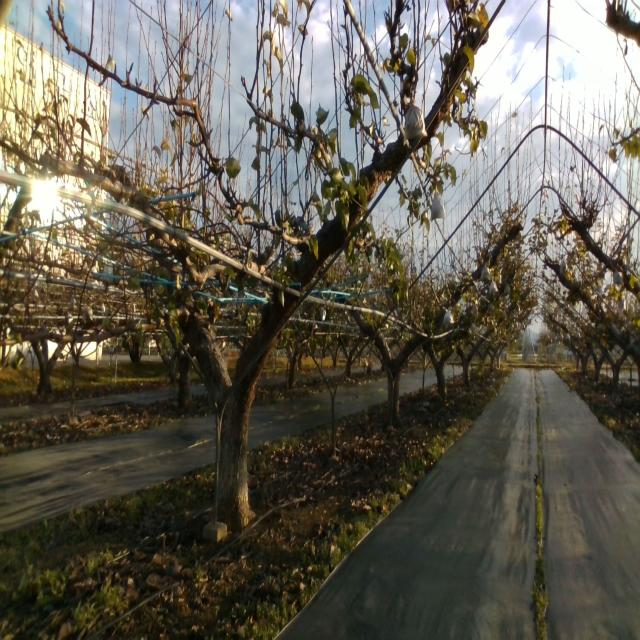pearbags: (402, 105, 429, 147), (430, 188, 446, 222), (479, 262, 490, 283), (444, 306, 454, 325), (489, 276, 498, 295)
